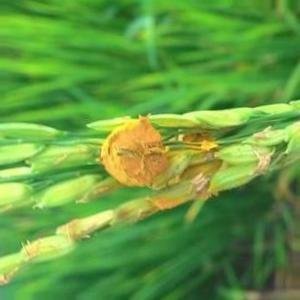Leaf_Scald: (102, 131, 171, 187)
